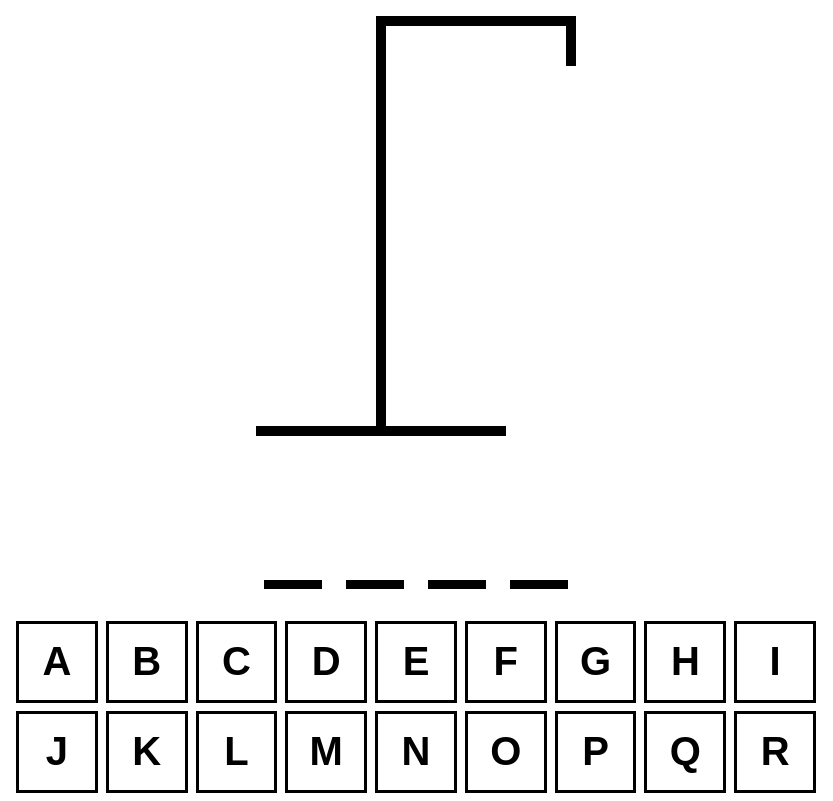
Scenario: Using the Hangman app › Ongoing game, after one or more guesses, until conclusion › Correct keyboard letter clicked is revealed in word-to-guess
The image size is (833, 801).
What coordinates should you click on to do the following:
click the button "l"
I would click on:
 (237, 752)
Its box is [196,711,278,793].
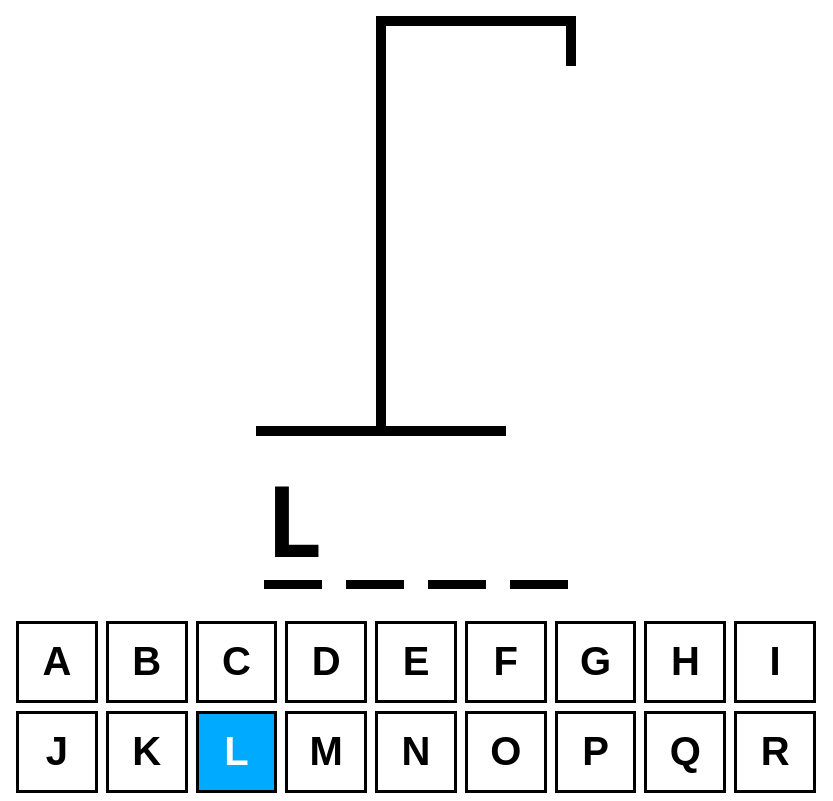
Expected: the text with id "wordLetter" reads "l", [264,468,322,580]
